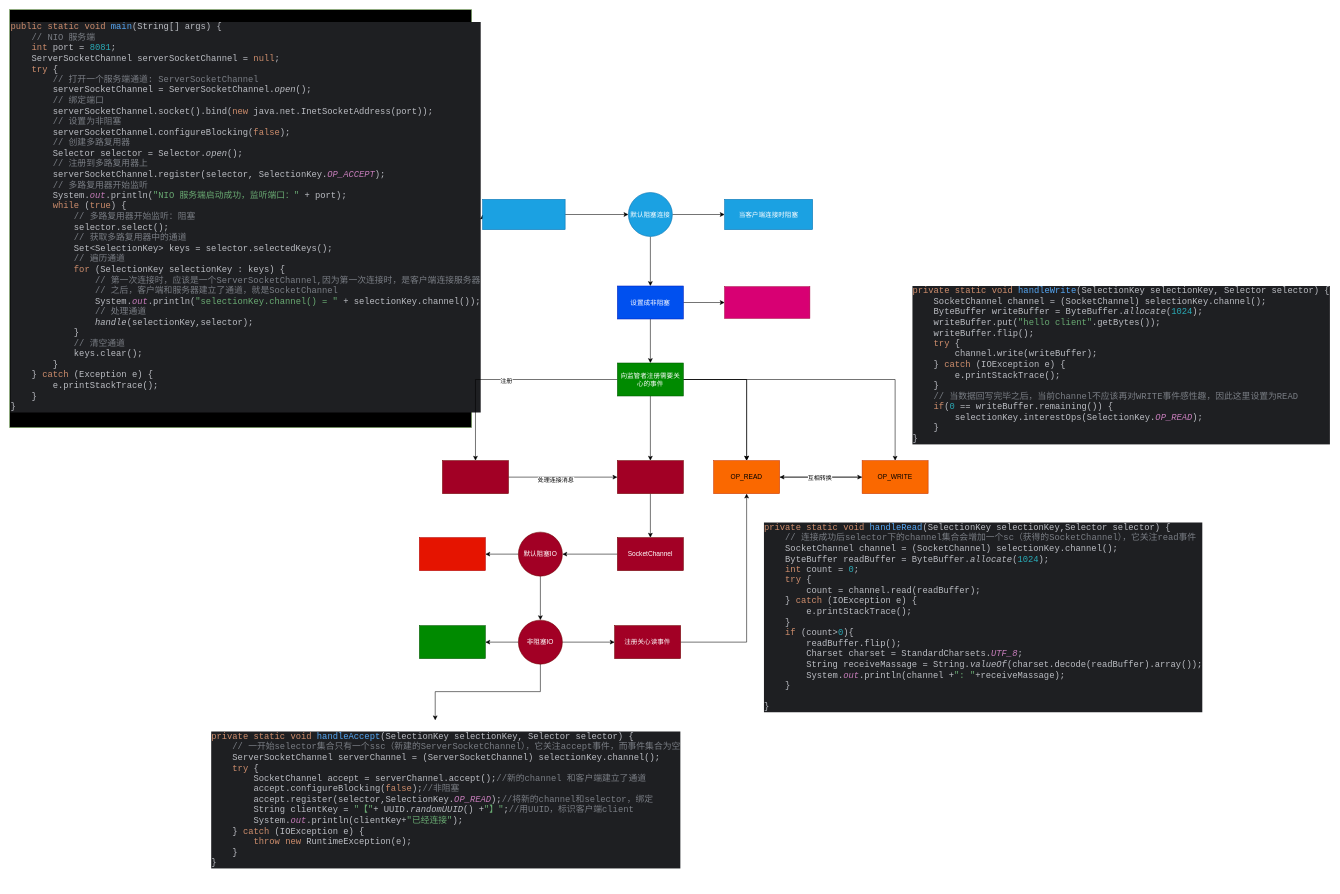
Image size: 1340x894. Some labels were removed from this diagram. The box of each missing label's shape, as (x1, y1, x2, y2) in pixels:
OP_ACCEPT: (442, 460, 508, 494)
OP_CONNECT: (617, 460, 683, 494)
ServerSocketChannel: (482, 199, 565, 230)
当客户端连接时不会阻塞: (724, 286, 810, 318)
当对个消息时不会阻塞: (419, 625, 485, 659)
当对个消息时会阻塞: (419, 537, 485, 571)
